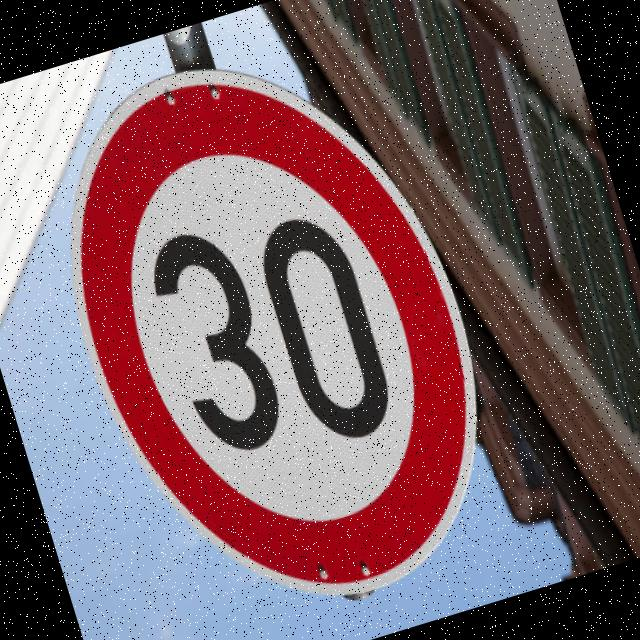speed_limit_30: (22, 5, 539, 640)
